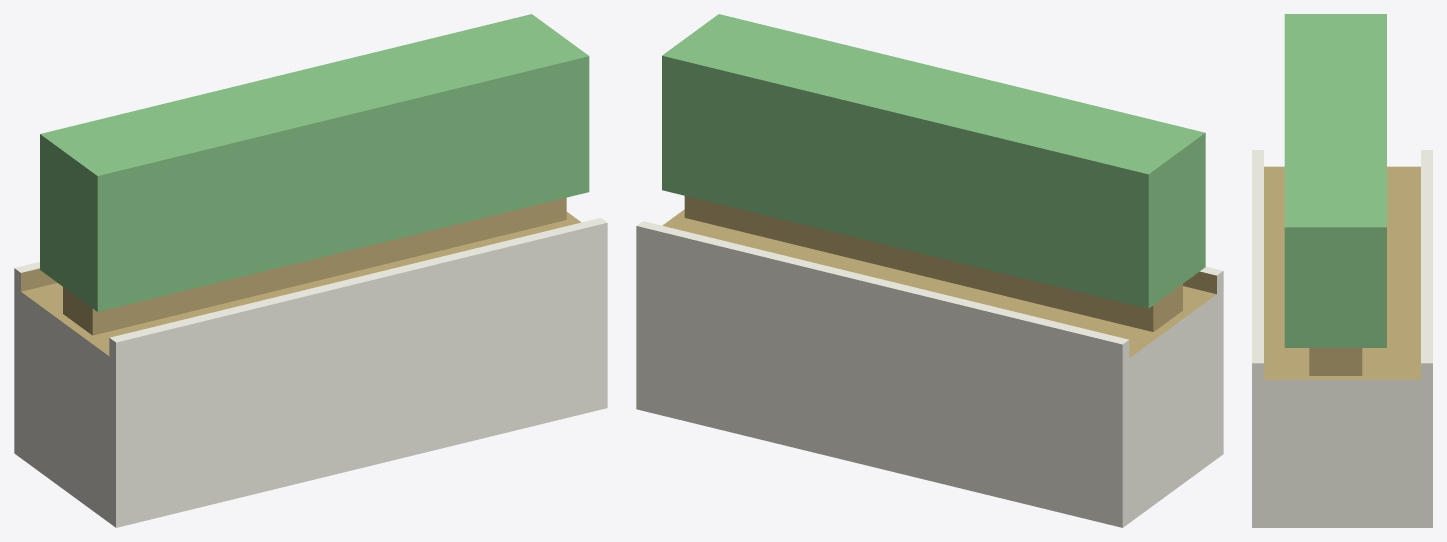
File: props19.fbx
3 views of the same model, side by side, from view 1: azimuth 30°, elevation 25°; view 2: azimuth 150°, elevation 25°; view 3: azimuth 270°, elevation 25° (orthographic). The views are drawn at different scales.
Visible parts, largest first — view 1: Cube_2; view 2: Cube_2; view 3: Cube_2.
Boxes of the visible parts, x1=… form: Cube_2: x1=14, y1=14, x2=607, y2=527; Cube_2: x1=636, y1=14, x2=1223, y2=527; Cube_2: x1=1252, y1=14, x2=1432, y2=527.
Size of the model in its own units: 200 by 132 by 71.77.
